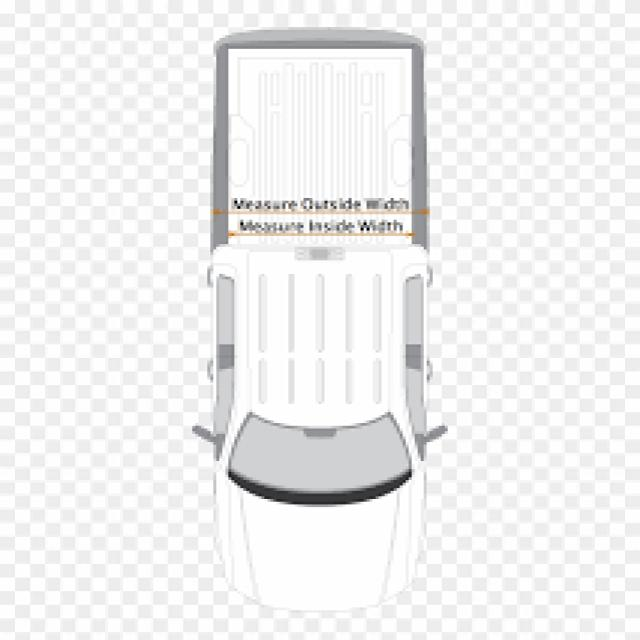truck: (204, 23, 435, 618)
